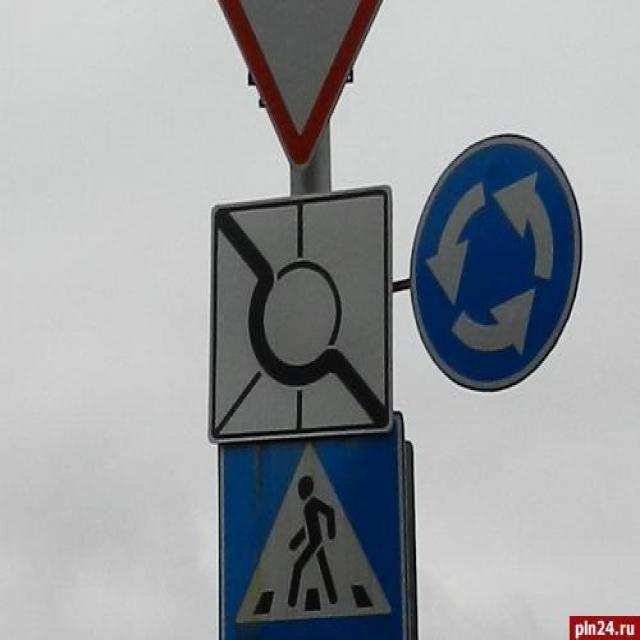roundabout: (406, 135, 583, 396)
